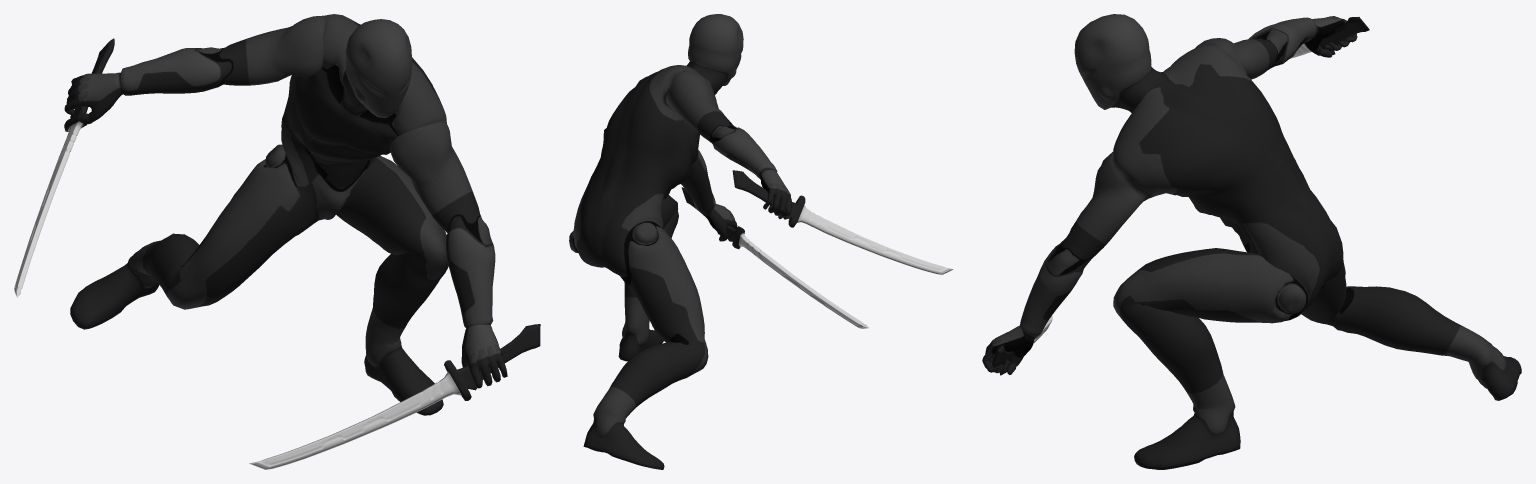
3 views of the same model, side by side, from view 1: azimuth 30°, elevation 25°; view 2: azimuth 150°, elevation 25°; view 3: azimuth 270°, elevation 25° (orthographic). The views are drawn at different scales.
Parts seen in each view (by area): view 1: Cyborg_Ninja_Killer, Sword_l, Sword_l001; view 2: Cyborg_Ninja_Killer, Sword_l001, Sword_l; view 3: Cyborg_Ninja_Killer, Sword_l001.
Boxes of the visible parts, left/top/right/bottom form: Cyborg_Ninja_Killer: left=64, top=14, right=507, bottom=415; Sword_l: left=249, top=324, right=540, bottom=469; Sword_l001: left=14, top=38, right=114, bottom=297; Cyborg_Ninja_Killer: left=569, top=14, right=791, bottom=469; Sword_l001: left=732, top=170, right=953, bottom=274; Sword_l: left=681, top=187, right=868, bottom=328; Cyborg_Ninja_Killer: left=982, top=14, right=1521, bottom=469; Sword_l001: left=1290, top=17, right=1369, bottom=58.
Size of the model in its own units: 137 by 125 by 147.
Materials: 2 (2 with a texture image).
